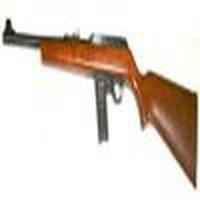gun: (2, 21, 196, 189)
